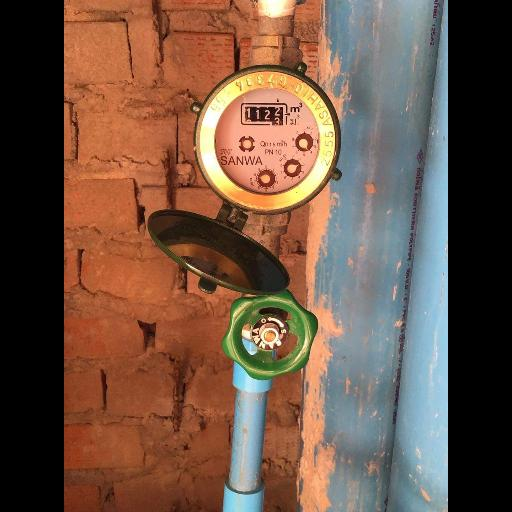1: (254, 106, 262, 122), (246, 107, 253, 122)
2: (273, 107, 282, 126), (264, 107, 273, 122)
border_water_meter_number: (241, 103, 290, 125)
